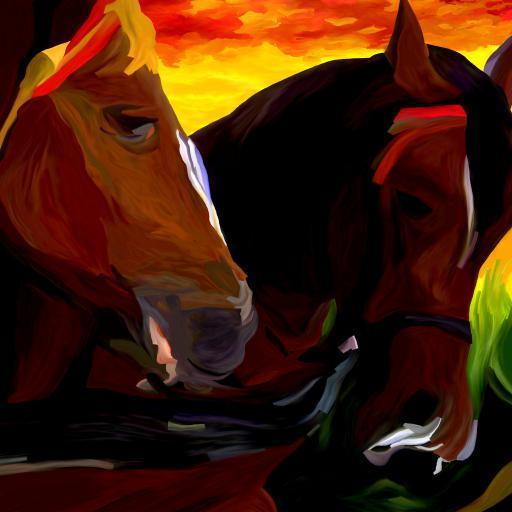horse: (0, 0, 511, 511), (0, 0, 260, 394)
